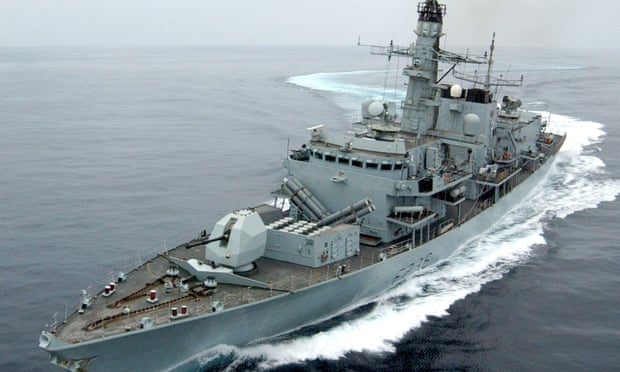warship: (39, 1, 567, 371)
